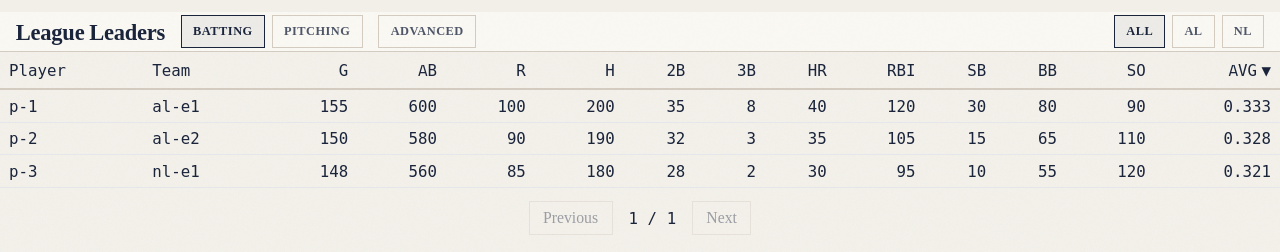
Test: StatsPage › clicking toggle twice returns to traditional view
Click the button with aria-label "Toggle stat view". click: (427, 32)
box: [378,16,476,48]
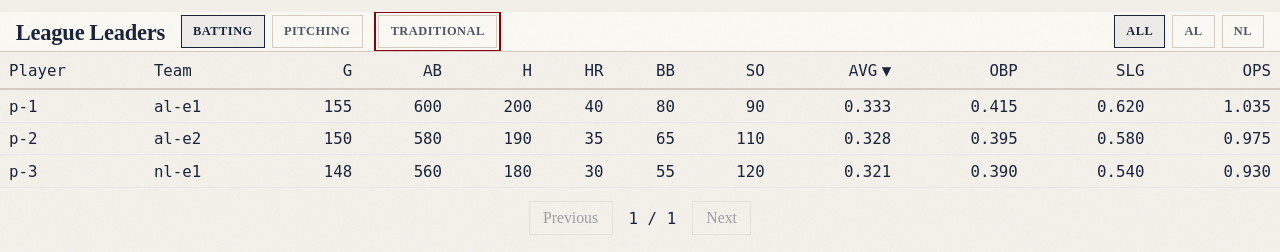
Click the button with aria-label "Toggle stat view". click: (438, 32)
box: [378,16,497,48]
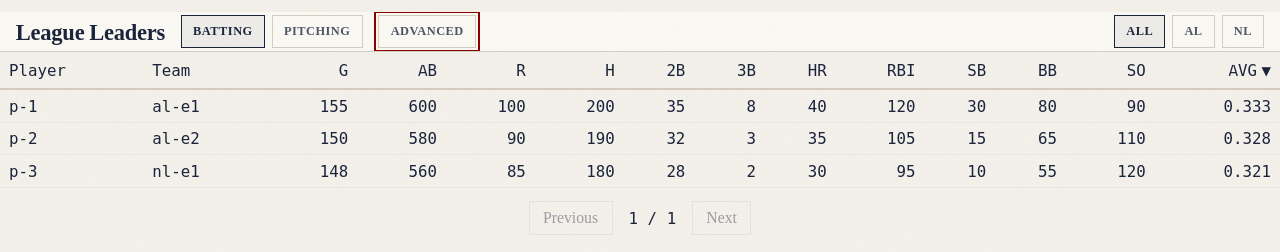
Expected: the column heading "RBI" is shown, [836,52,924,89]
Expected: the button with aria-label "Toggle stat view" reads "Advanced", [378,16,476,48]
